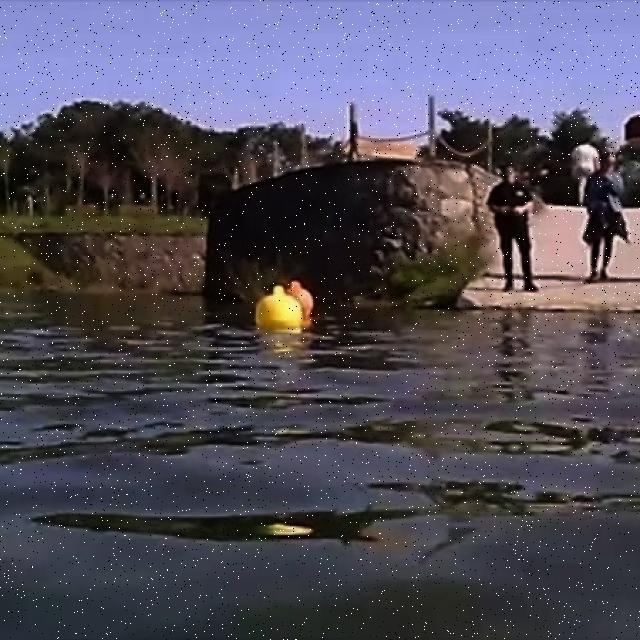buoy: (256, 285, 304, 332), (289, 280, 314, 316)
